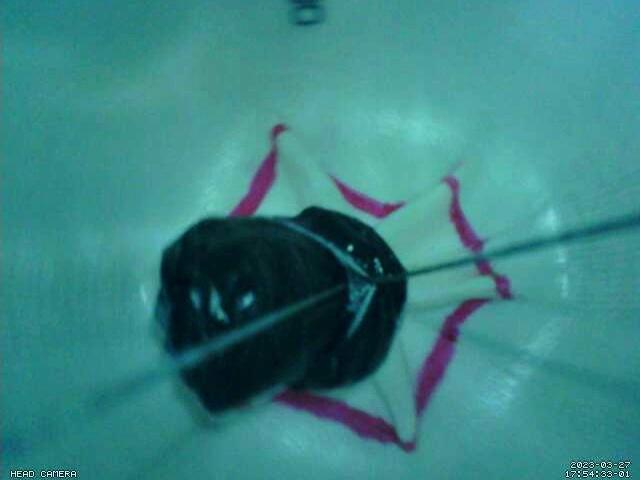red-circle: (226, 122, 518, 452)
